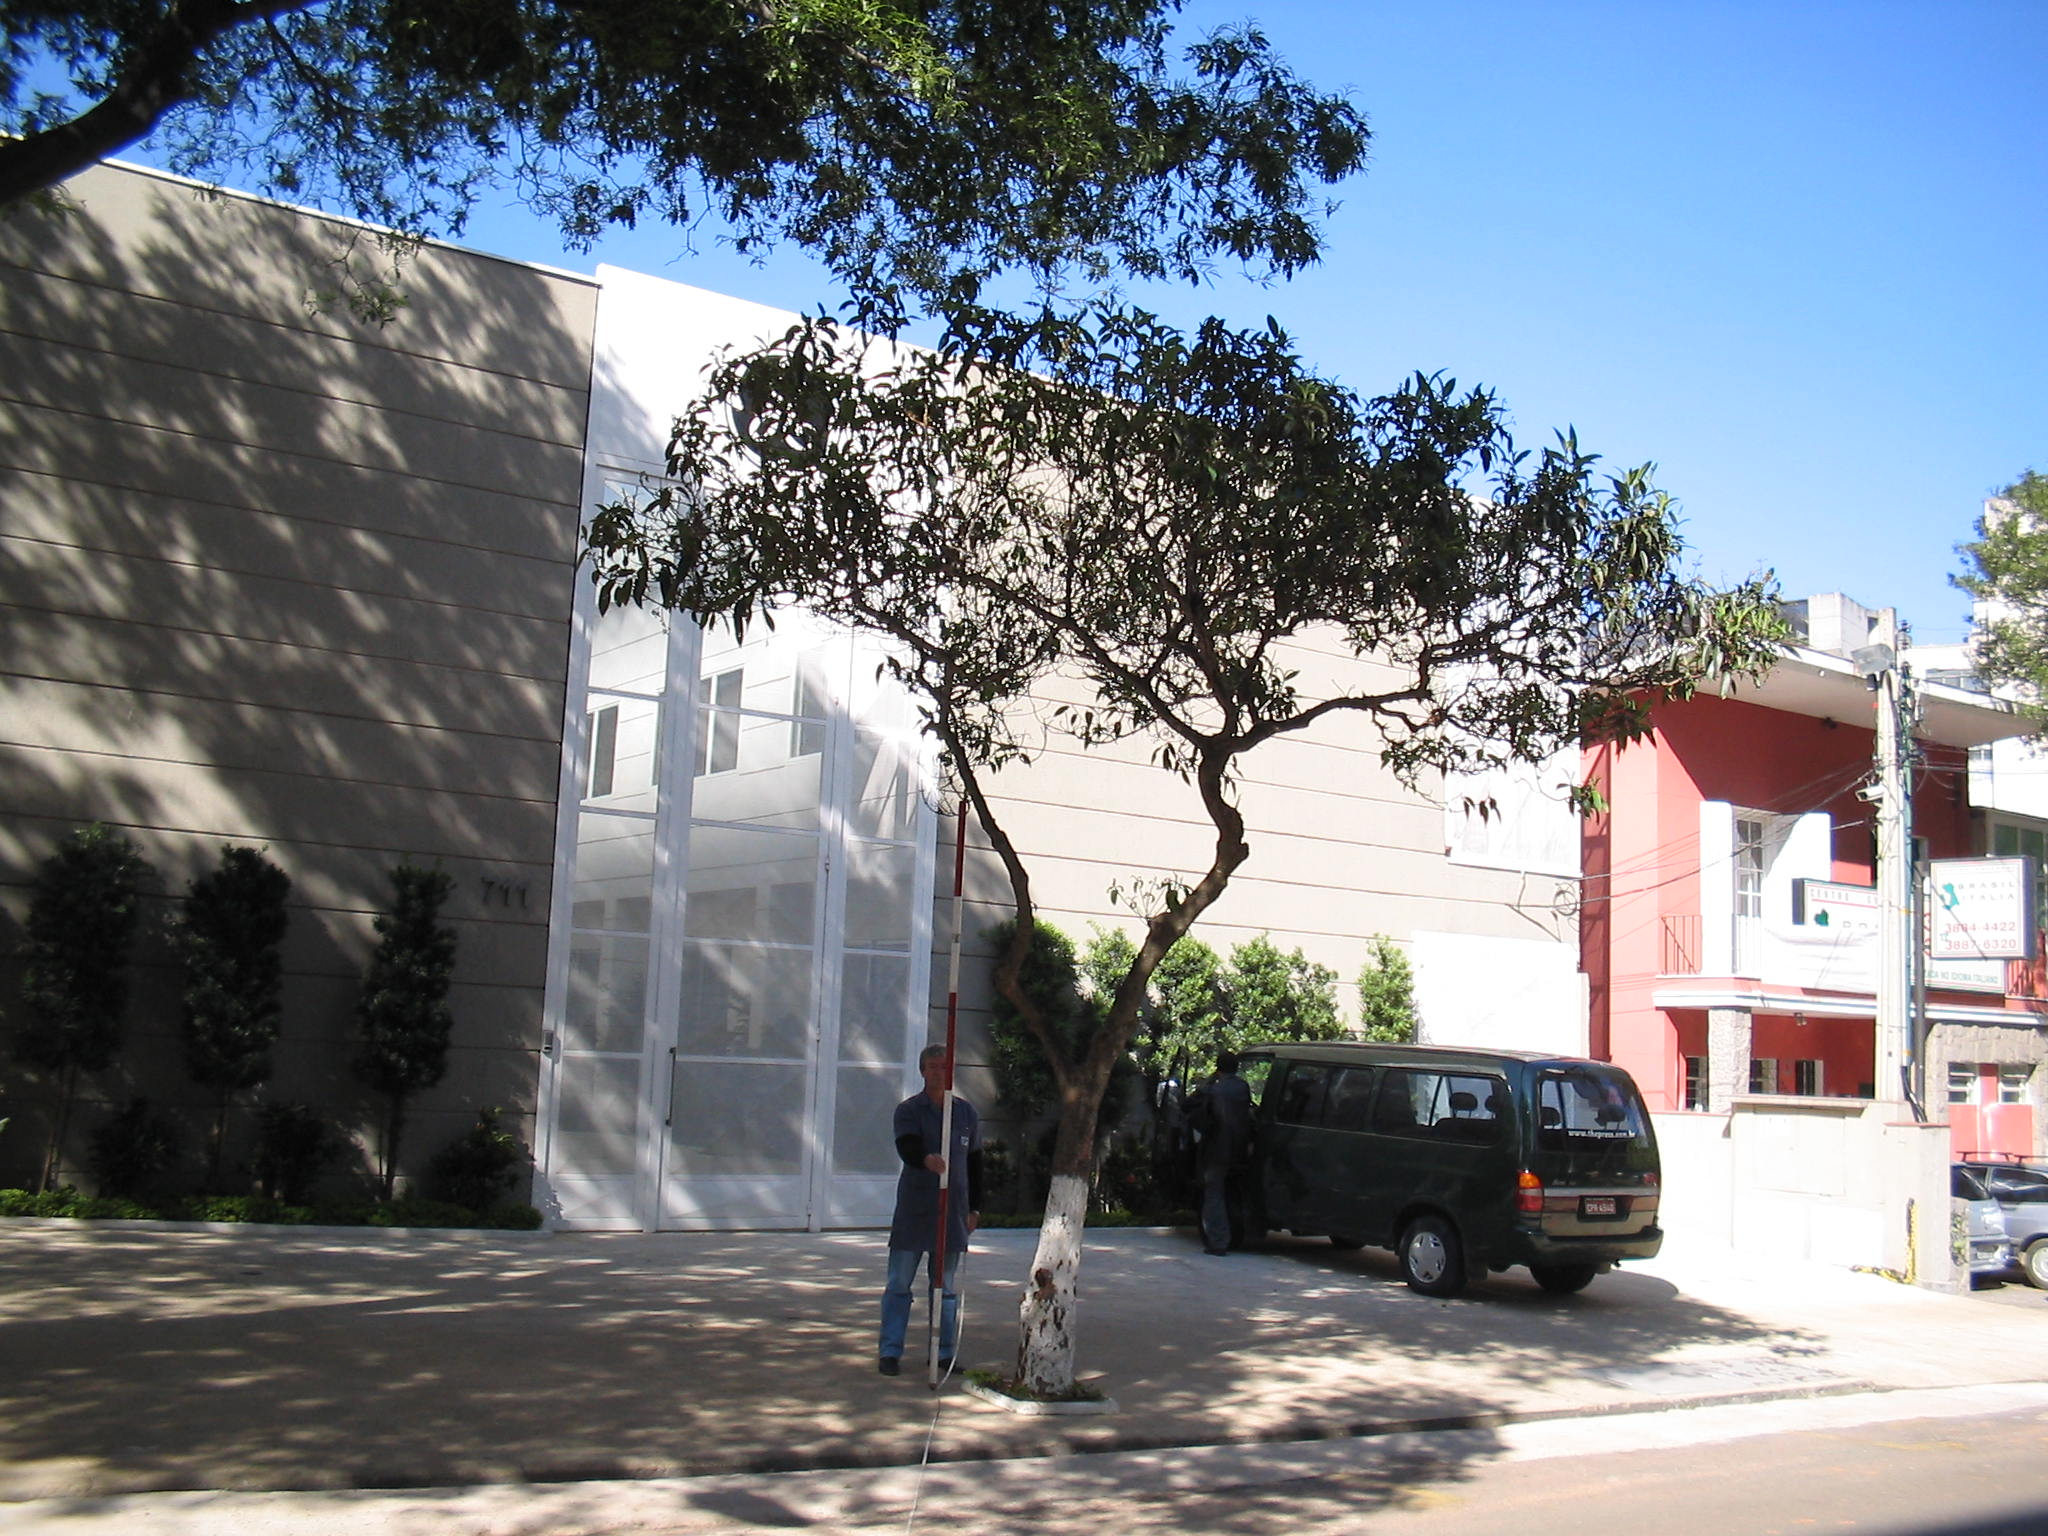crown: (574, 287, 1800, 871)
stem: (997, 1084, 1142, 1399)
stick: (893, 803, 993, 1392)
tree: (568, 282, 1806, 1407)
